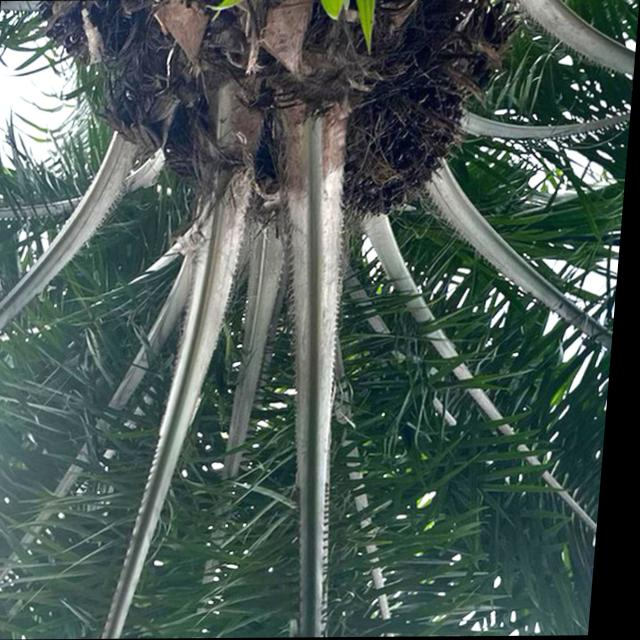almost: (336, 73, 475, 224)
